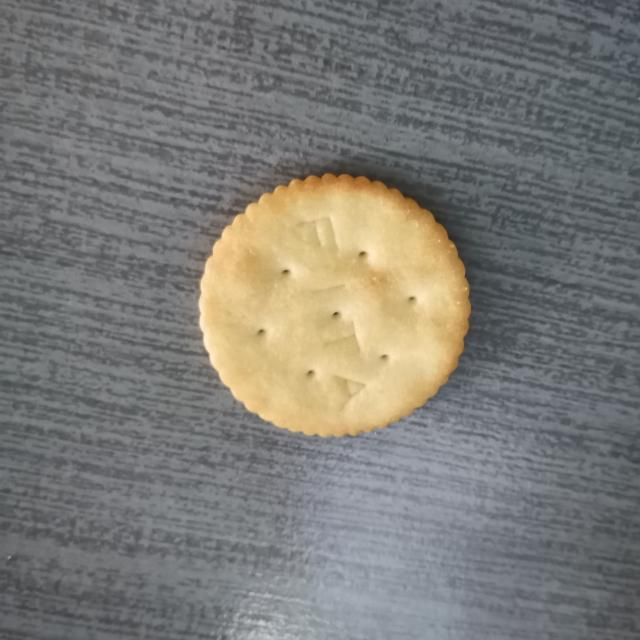Intact: (183, 159, 486, 457)
